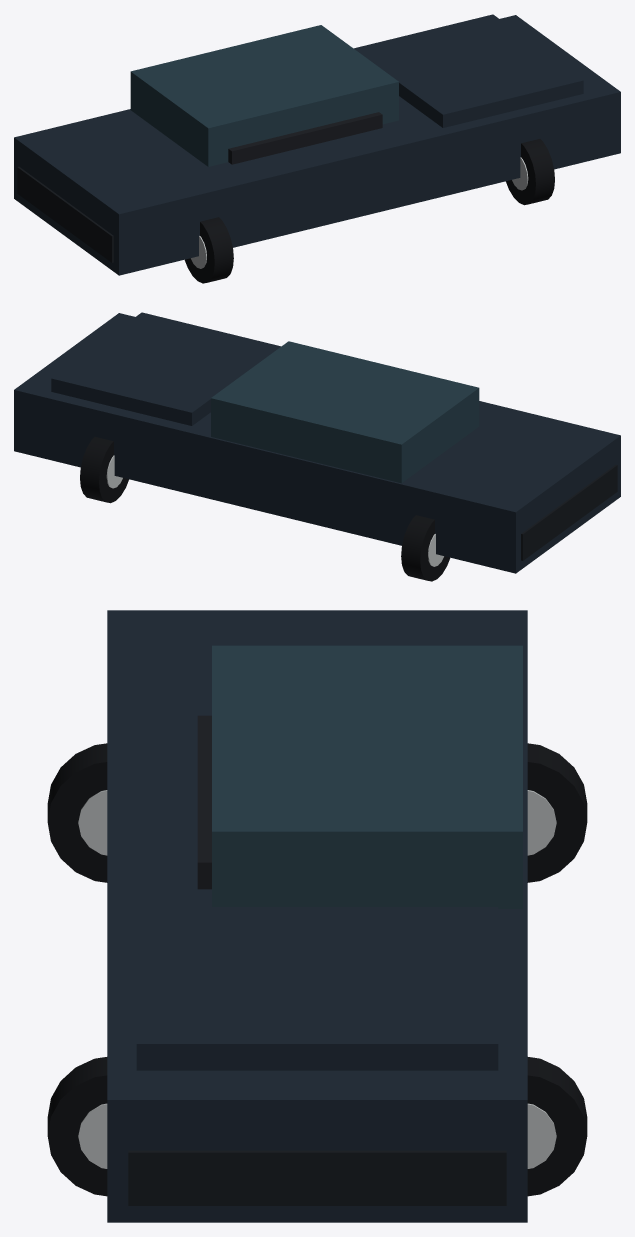
Rendered from rr_sweptail.glb.
3 renders of one model, top to bottom at view 1: azimuth 30°, elevation 25°; view 2: azimuth 150°, elevation 25°; view 3: azimuth 270°, elevation 25°, orthographic. The views are drawn at different scales.
Visible parts, largest first — view 1: body, cabin, hood, rear_bumper, interior, front_right_wheel, rear_right_wheel; view 2: body, cabin, hood, rear_bumper, front_left_wheel, rear_left_wheel; view 3: body, cabin, hood, front_bumper, rear_left_wheel, rear_right_wheel, front_left_wheel, front_right_wheel, interior.
Part boxes in pixels (x1,y1,x2,y2): body: [14, 15, 620, 275]; cabin: [130, 25, 398, 166]; hood: [354, 14, 583, 127]; rear_bumper: [17, 166, 113, 262]; interior: [228, 112, 382, 164]; front_right_wheel: [506, 139, 554, 205]; rear_right_wheel: [184, 217, 233, 283]; body: [14, 313, 620, 573]; cabin: [211, 341, 479, 483]; hood: [51, 312, 280, 425]; rear_bumper: [521, 464, 617, 560]; front_left_wheel: [80, 437, 128, 503]; rear_left_wheel: [401, 515, 450, 581]; body: [107, 610, 527, 1222]; cabin: [212, 645, 522, 908]; hood: [136, 907, 498, 1070]; front_bumper: [128, 1150, 506, 1205]; rear_left_wheel: [527, 743, 587, 882]; rear_right_wheel: [47, 743, 107, 882]; front_left_wheel: [527, 1057, 587, 1196]; front_right_wheel: [47, 1057, 107, 1196]; interior: [197, 715, 211, 889].
Bounding box in the file's own units: 5.83 × 1.4 × 2.7.
